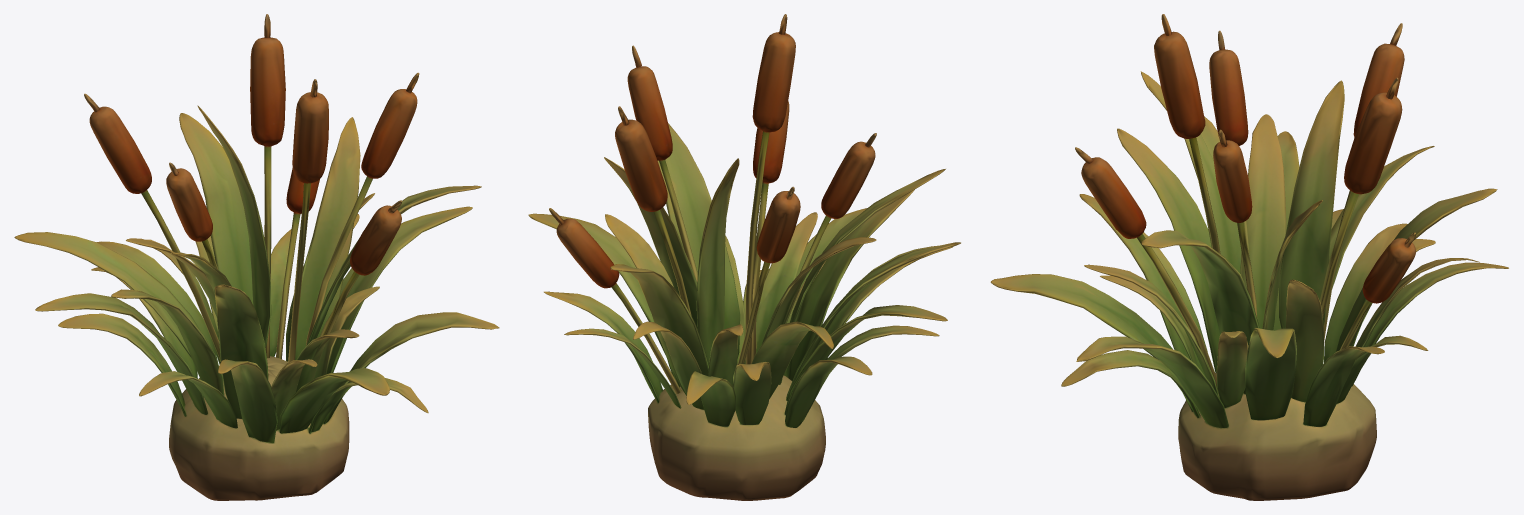
3 views of the same model, side by side, from view 1: azimuth 30°, elevation 25°; view 2: azimuth 150°, elevation 25°; view 3: azimuth 270°, elevation 25° (orthographic). The views are drawn at different scales.
Parts seen in each view (by area): view 1: tripo_node_1fc4daf7; view 2: tripo_node_1fc4daf7; view 3: tripo_node_1fc4daf7.
Part boxes in pixels (x1,y1,x2,y2): tripo_node_1fc4daf7: (14, 14, 499, 500); tripo_node_1fc4daf7: (528, 14, 960, 500); tripo_node_1fc4daf7: (990, 14, 1508, 500).
Bounding box in the file's own units: 0.9995 × 0.9585 × 0.9663.
Materials: 1 (1 with a texture image).
